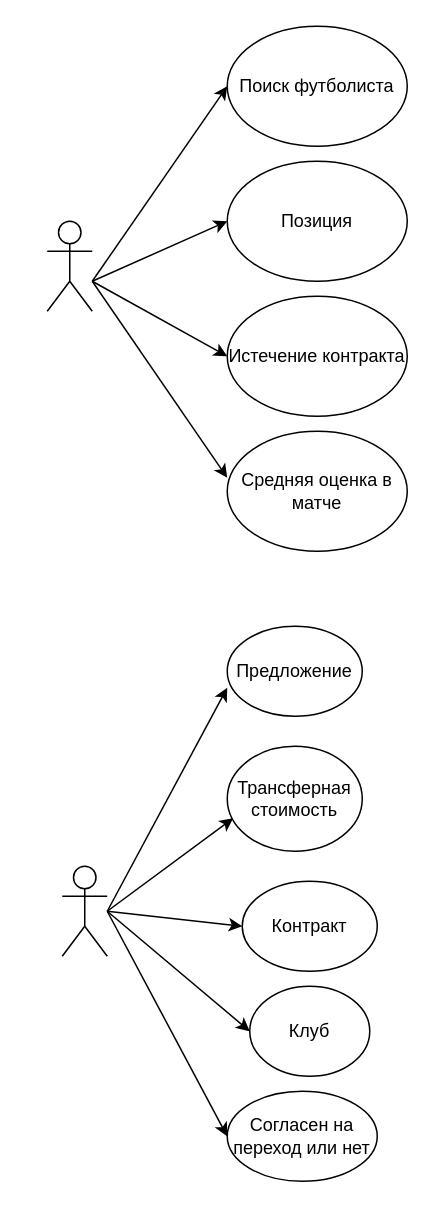
This 434x1208 diagram has some shape labels left out. Each missing label, with the centre of its shape:
Менеджер: pixel 69 265
Футболист: pixel 84 910
